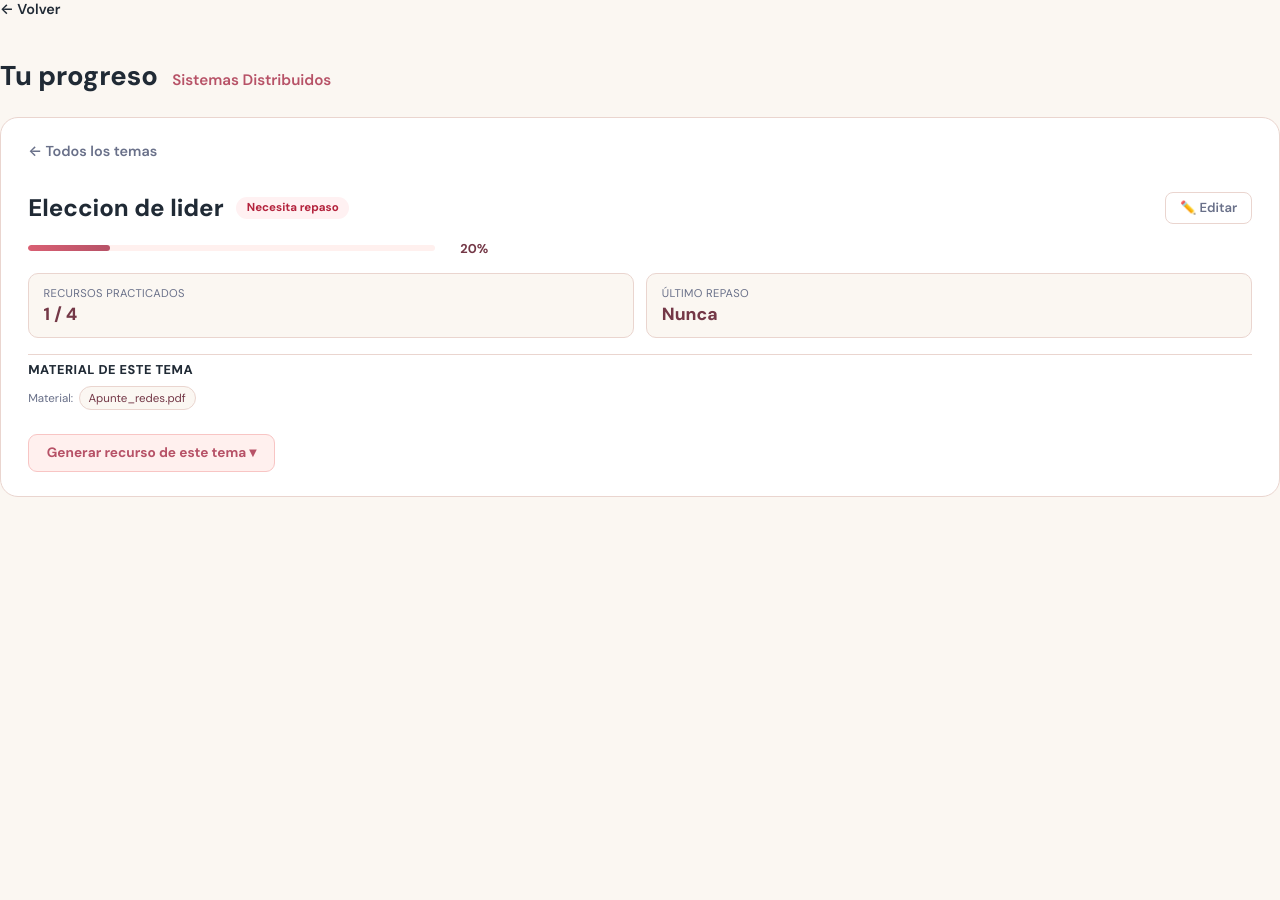
it: ProgressPage: editar un tema › abre el modal con el título y la descripción actuales, sin documentos
The image size is (1280, 900).
Click the button "✏️ Editar" at (1209, 208), box [1165, 192, 1252, 224]
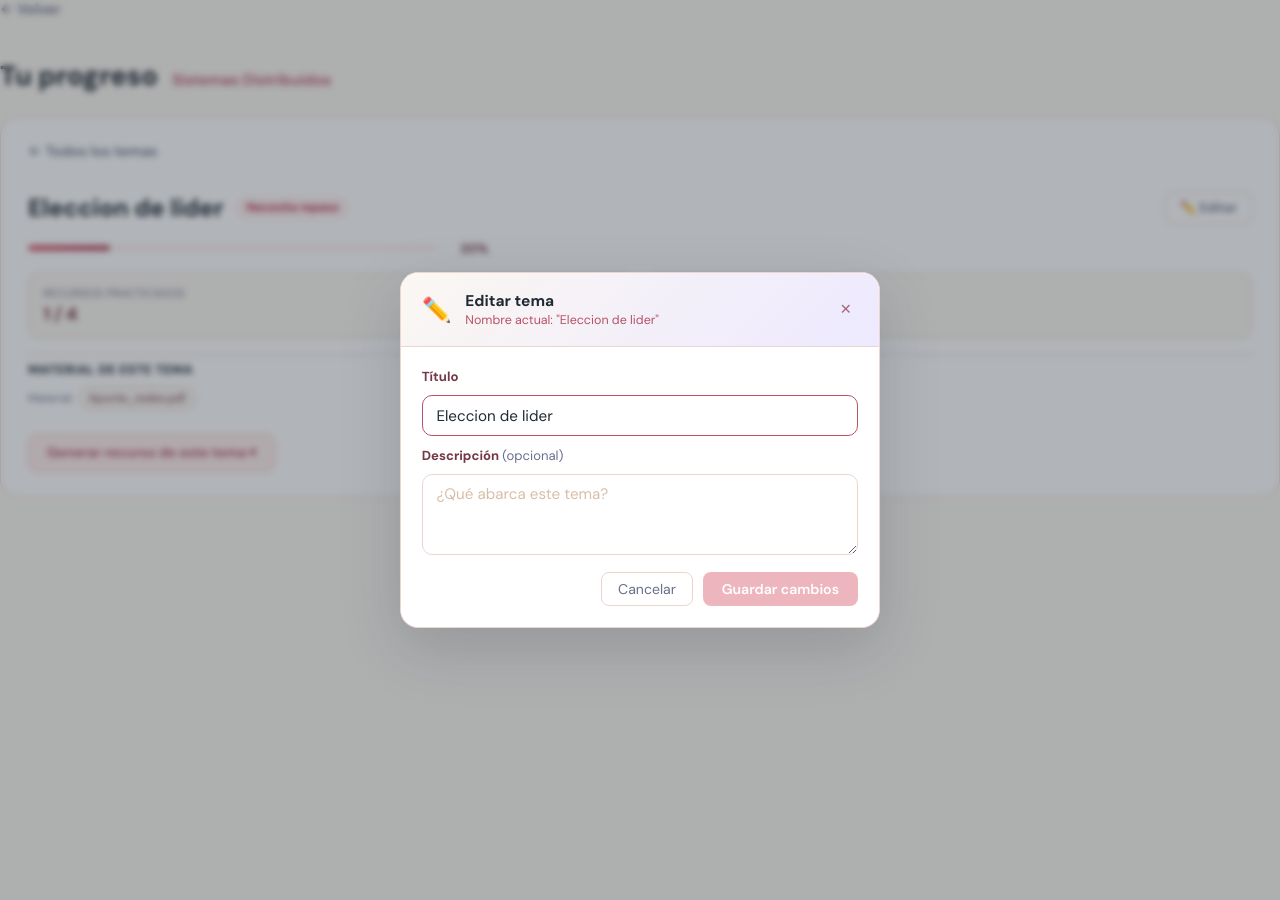
Now the text "Editar tema" is shown, box [465, 290, 554, 310]
Now the field labelled "Título" holds "Eleccion de lider", box [422, 395, 858, 436]
Now the button "Guardar cambios" is disabled, box [702, 572, 858, 606]
